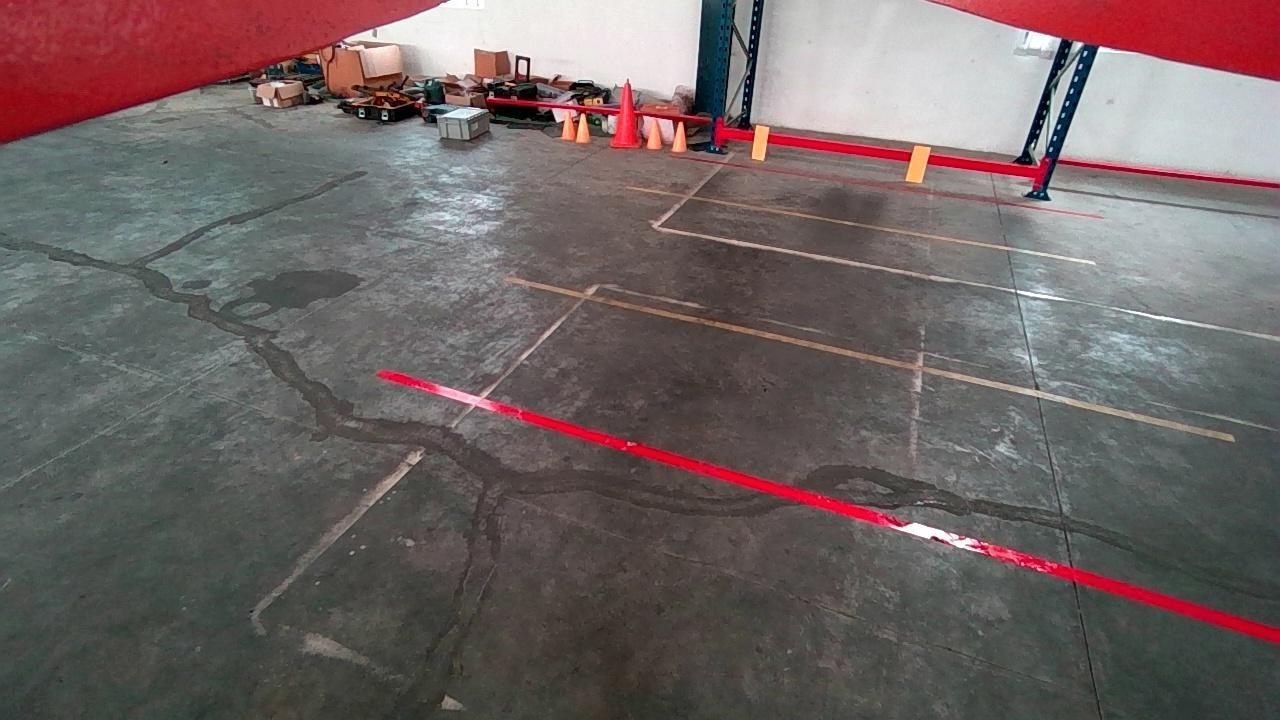h_rack: (722, 128, 1042, 179)
orange_strip: (907, 144, 930, 182), (751, 125, 769, 160)
red_line: (380, 366, 1280, 645), (671, 152, 1104, 219)
yellow_line: (511, 274, 1236, 440), (629, 182, 1098, 264)
